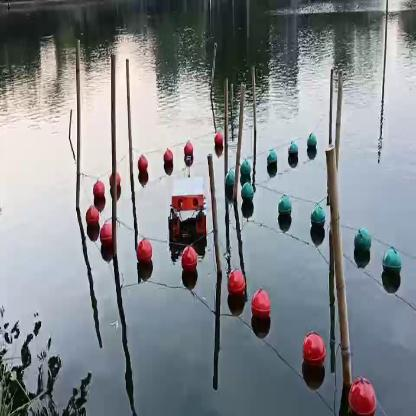green_buoy: (278, 191, 294, 231), (223, 168, 238, 203), (310, 202, 324, 238), (356, 226, 367, 264), (387, 247, 398, 282), (242, 188, 256, 215), (266, 146, 277, 178), (288, 136, 298, 164), (240, 157, 250, 184), (305, 136, 314, 158)
red_buoy: (300, 333, 328, 379), (347, 378, 379, 414), (82, 202, 102, 241), (254, 290, 269, 331), (228, 270, 244, 306), (182, 249, 198, 280), (101, 221, 115, 256), (138, 240, 152, 272), (160, 148, 176, 174), (139, 152, 149, 180), (94, 178, 106, 200), (184, 138, 194, 164), (214, 130, 224, 150)
